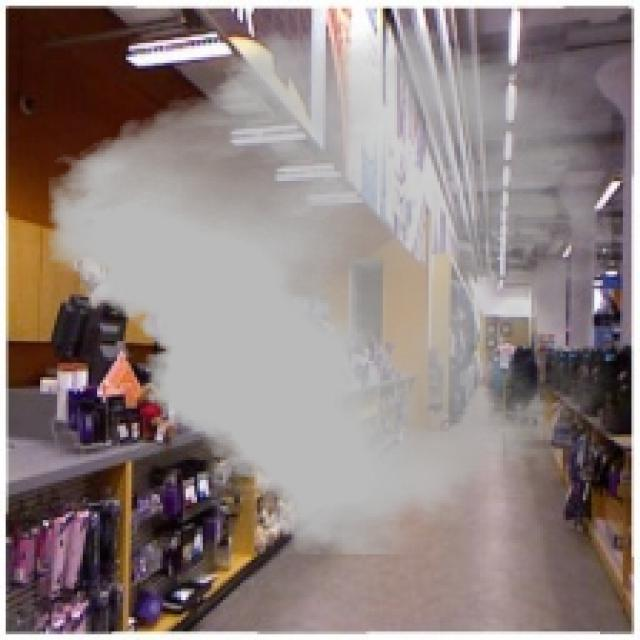smoke: (49, 23, 612, 554)
